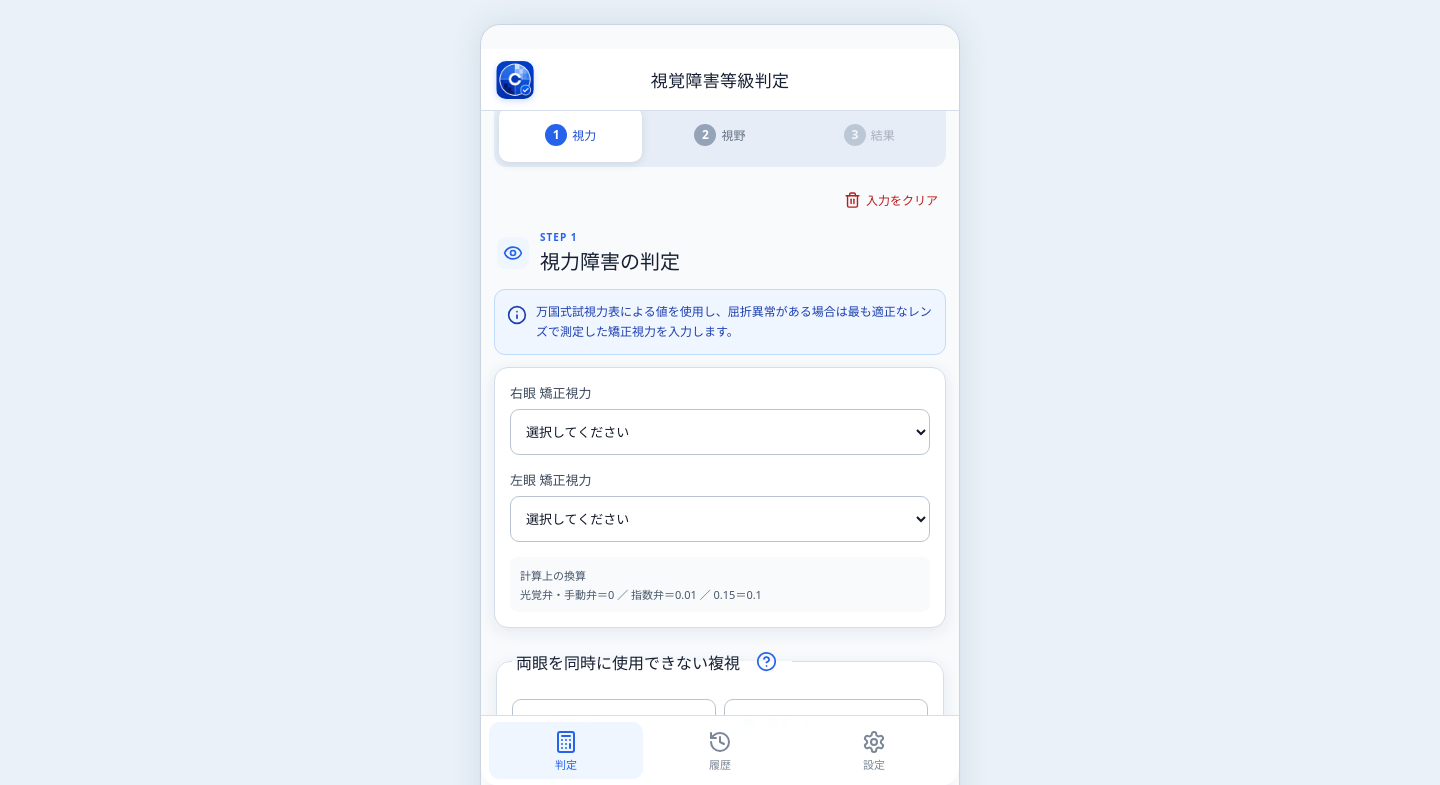
Scenario: 判定フロー › 視力基準ヘルプに1～6級を表示し特殊条件を個別強調して入力を保持する
Step 1. Select "0.08" in the dropdown labelled "右眼 矯正視力" → coordinates (720, 432), box [510,409,930,455]
Step 2. Select "手動弁" in the dropdown labelled "左眼 矯正視力" → coordinates (720, 519), box [510,496,930,542]
(page scrolled)
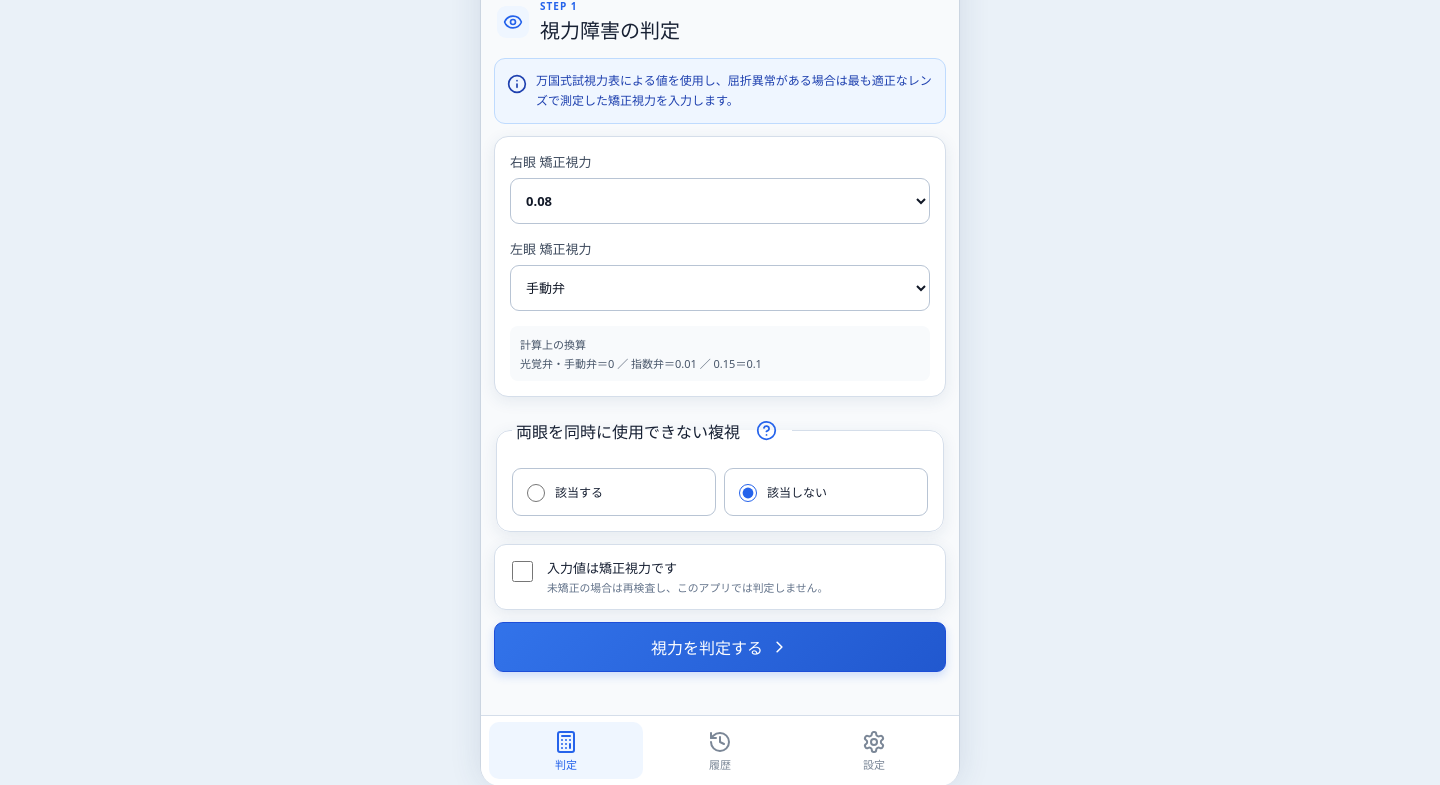
Step 3. Click the checkbox labelled "入力値は矯正視力です 未矯正の場合は再検査し、このアプリでは判定しません。" → coordinates (522, 571), box [512,561,533,582]
(page scrolled)
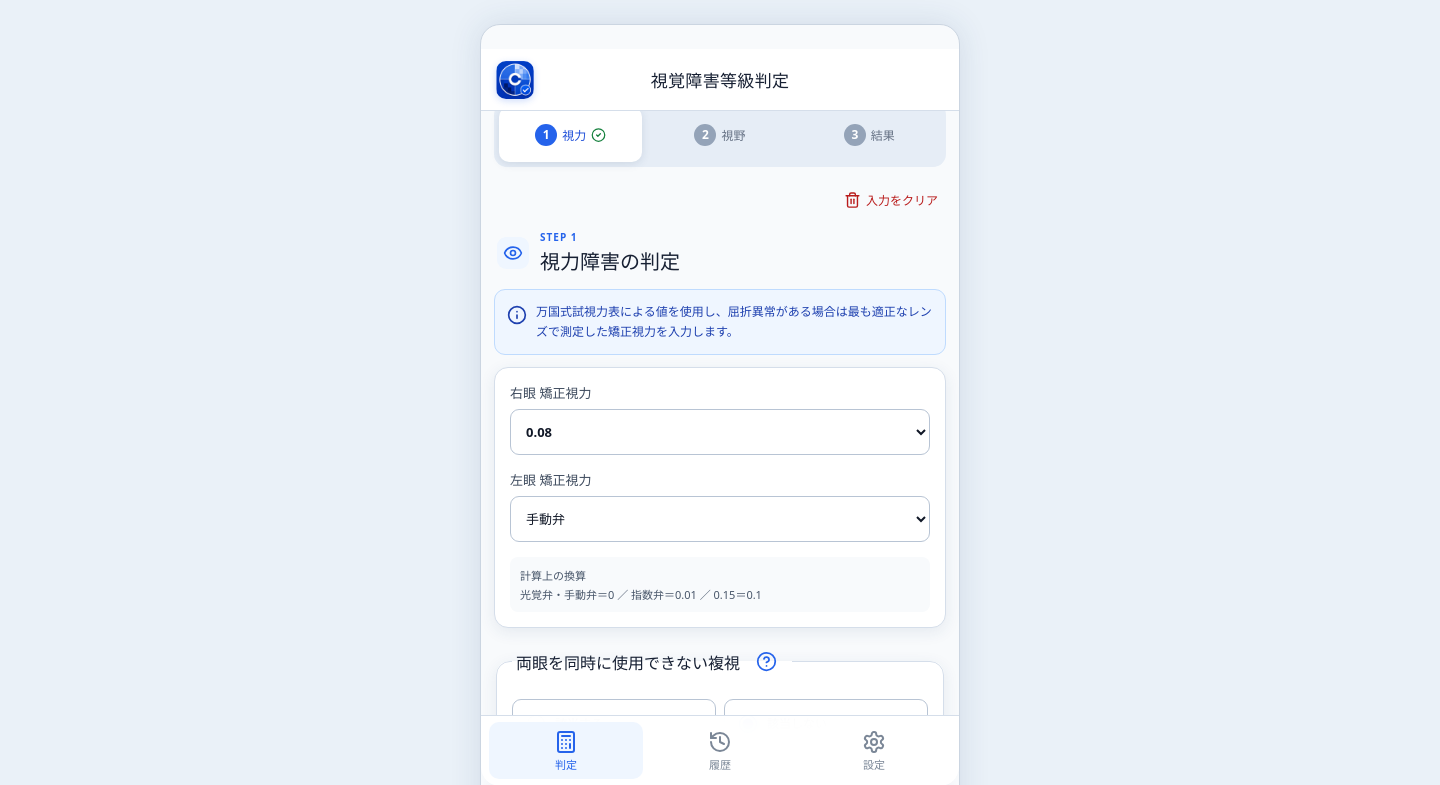
Step 4. Click the button "3 結果" → coordinates (869, 134), box [798,107,941,162]
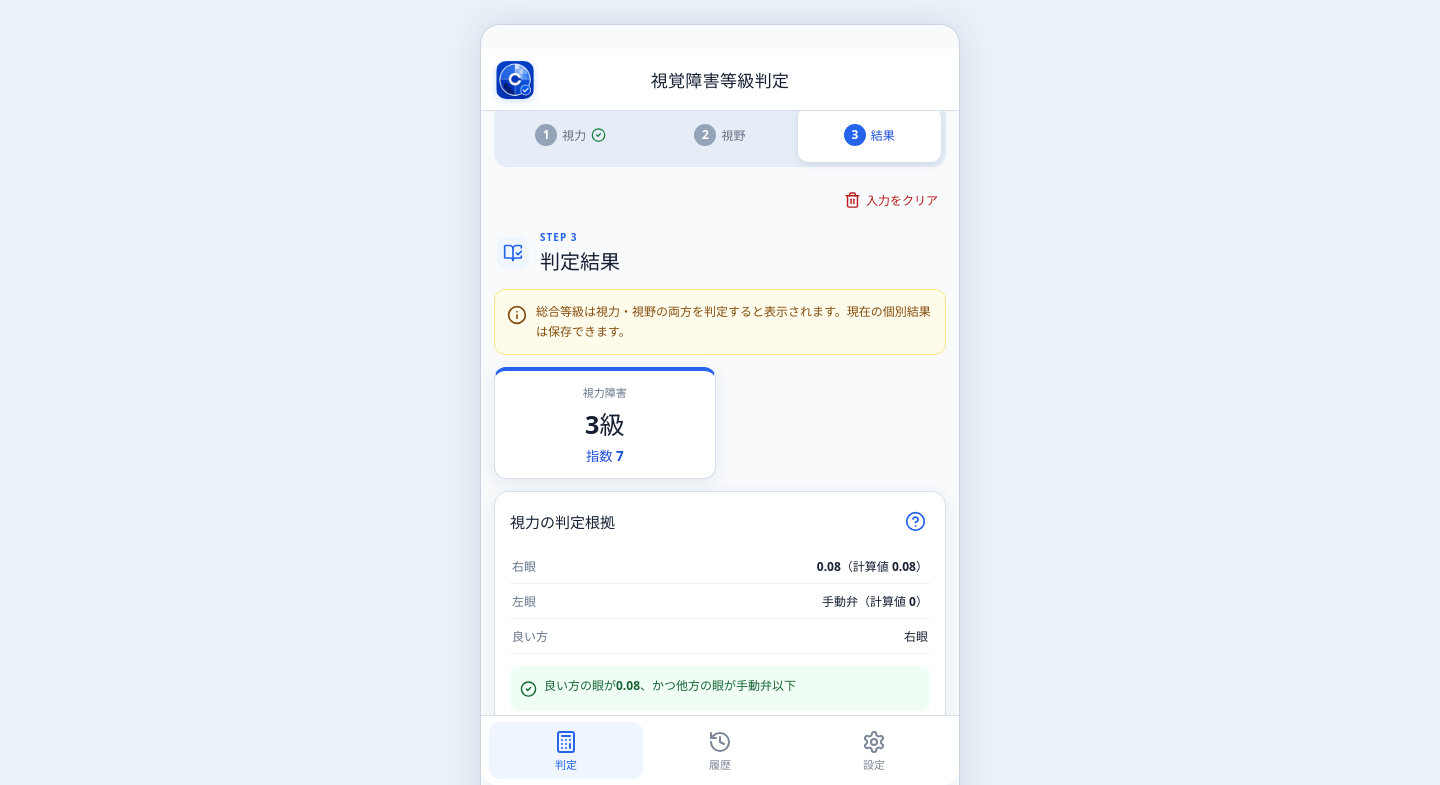
Expected: the text "ルールID：VA-3-2" is shown, [510,726,582,739]
Step 5. Click the button named "視力障害の等級判定基準を開く" → coordinates (915, 522), box [893,500,937,544]
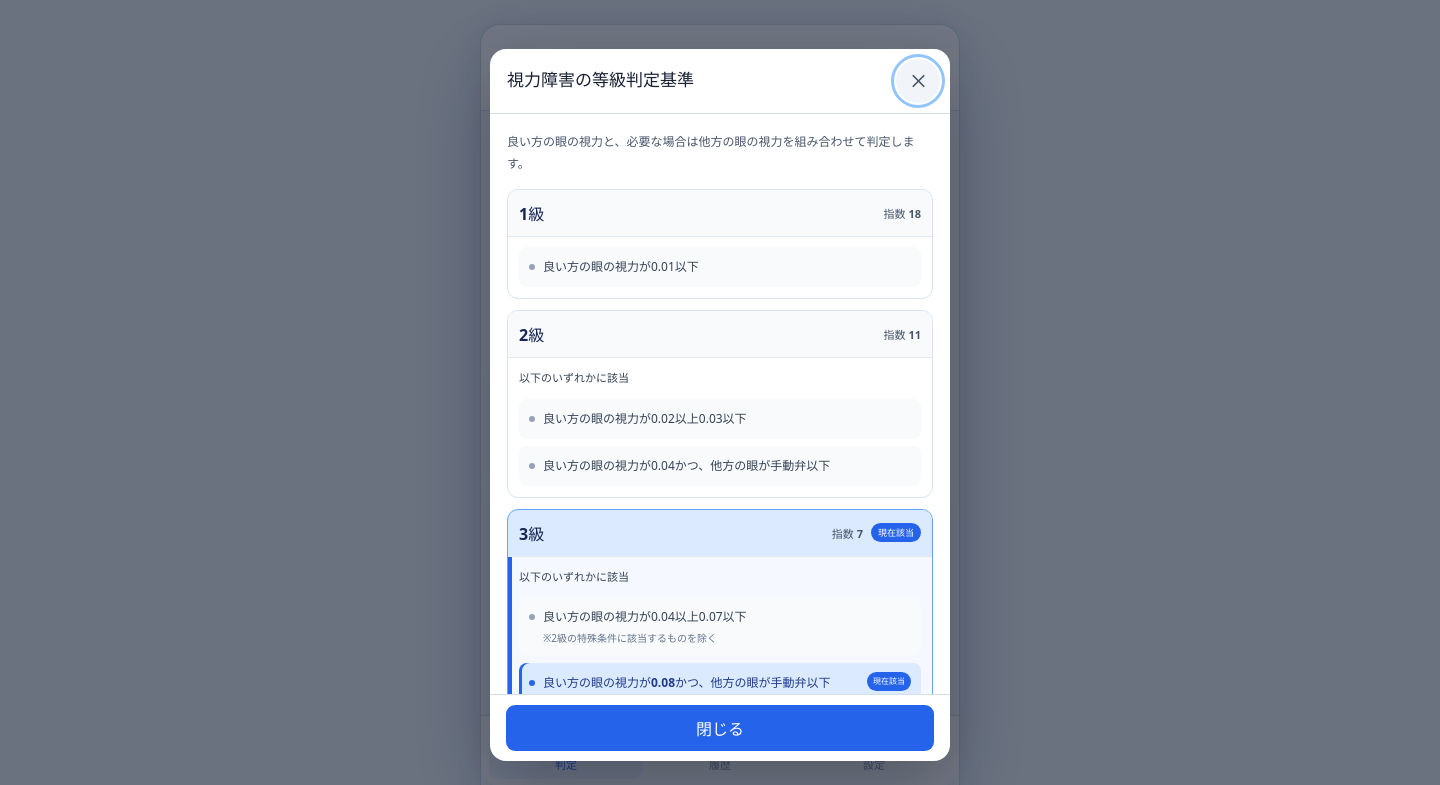
Expected: the heading "1級" is shown, [519,201,544,225]
Expected: the heading "2級" is shown, [519,322,544,346]
Expected: the heading "3級" is shown, [519,521,544,545]
Step 6. Click the button "閉じる" → coordinates (720, 728), box [506,705,934,751]
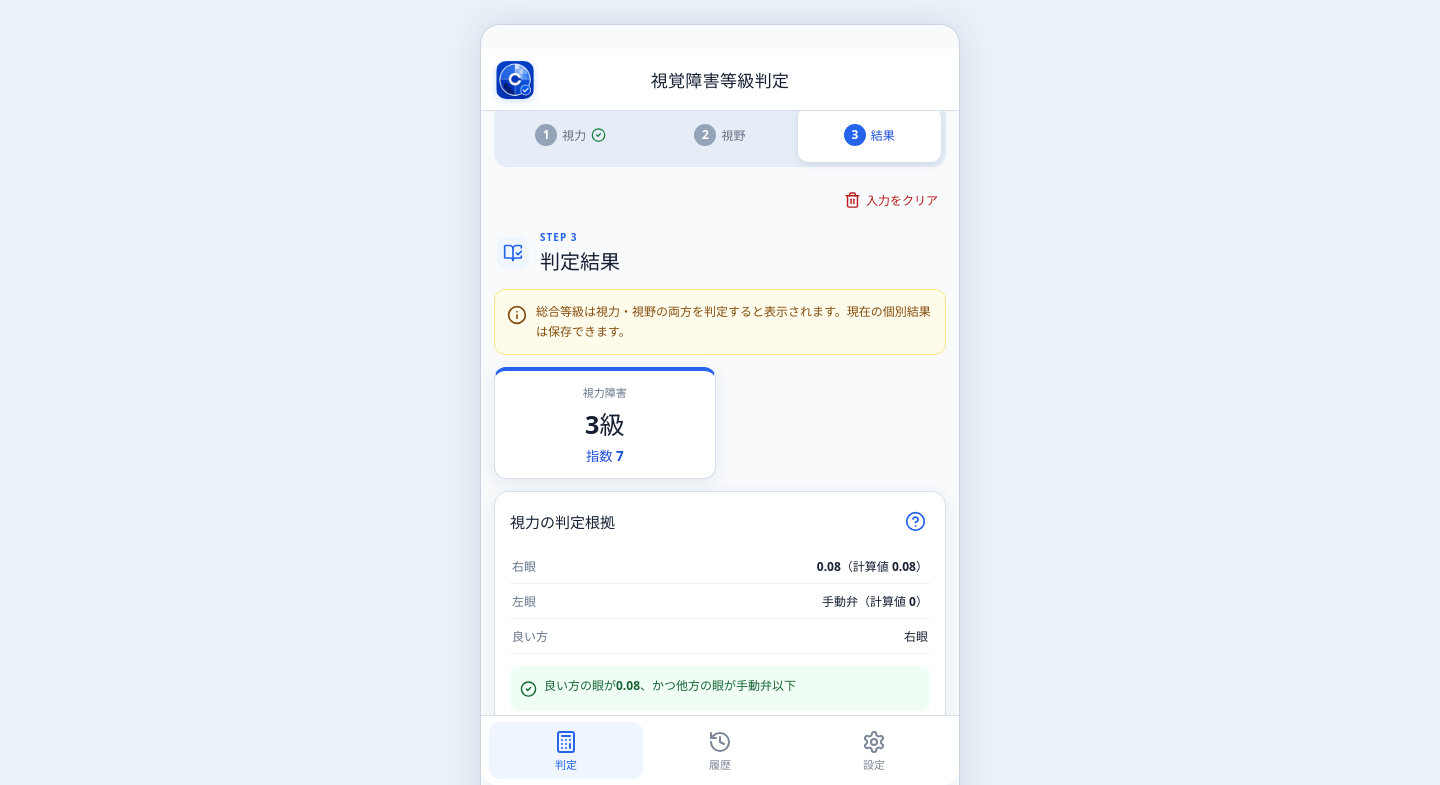
Expected: the text "ルールID：VA-3-2" is shown, [510,726,582,739]
Step 7. Click the button "1 視力" → coordinates (571, 134), box [499,107,642,162]
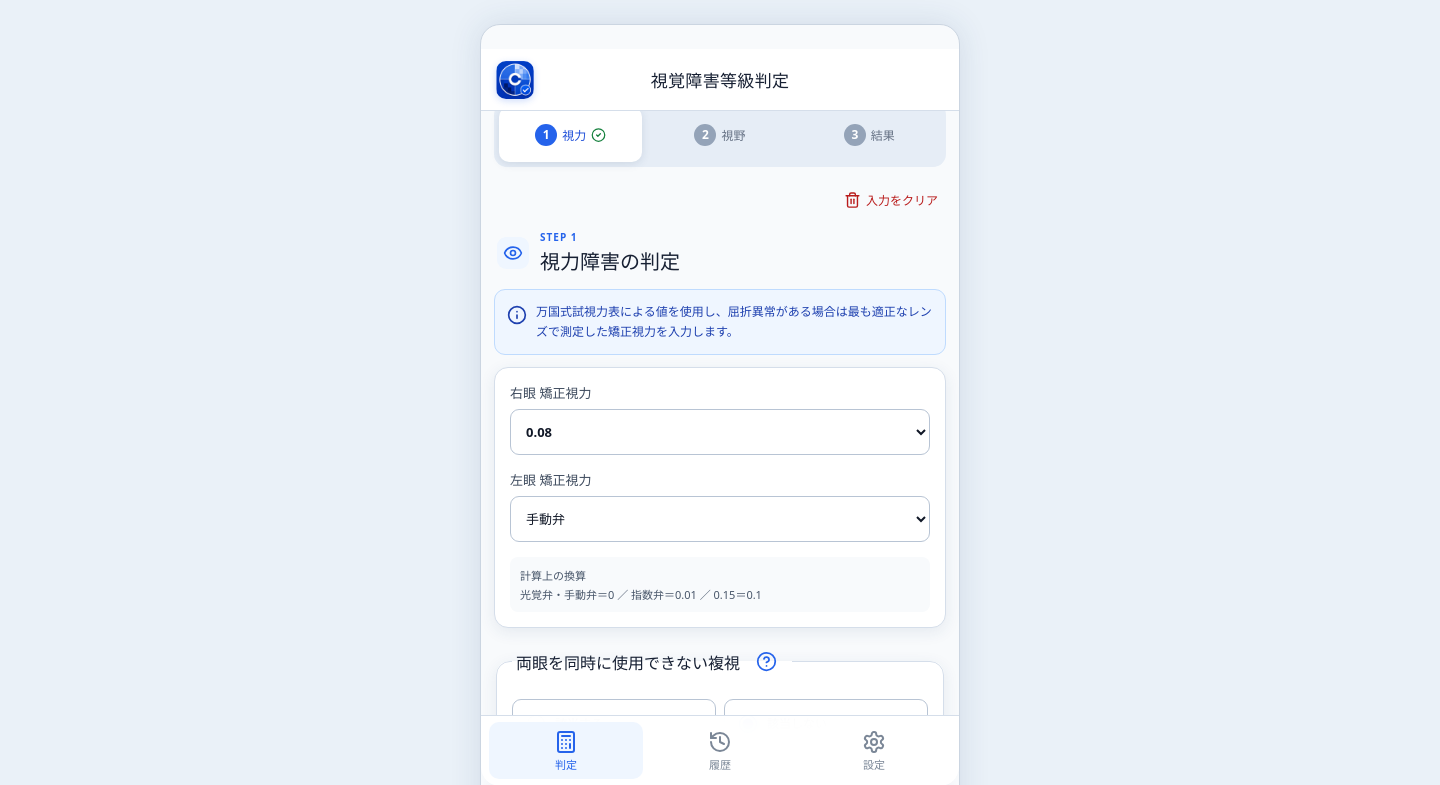
Expected: the dropdown labelled "右眼 矯正視力" shows "0.08", [510,409,930,455]
Expected: the dropdown labelled "左眼 矯正視力" shows "手動弁", [510,496,930,542]
